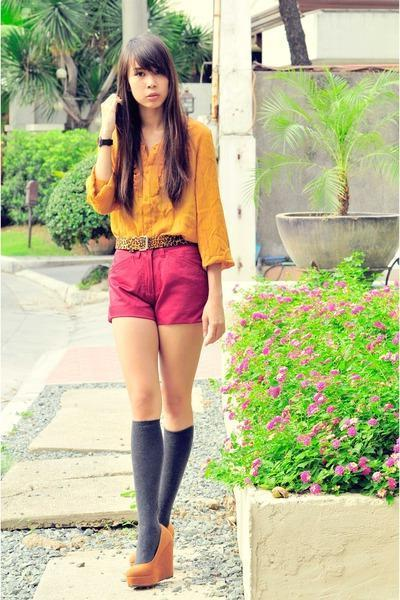Shorts: (96, 229, 223, 322)
long sleeve shirt: (81, 112, 241, 261)
